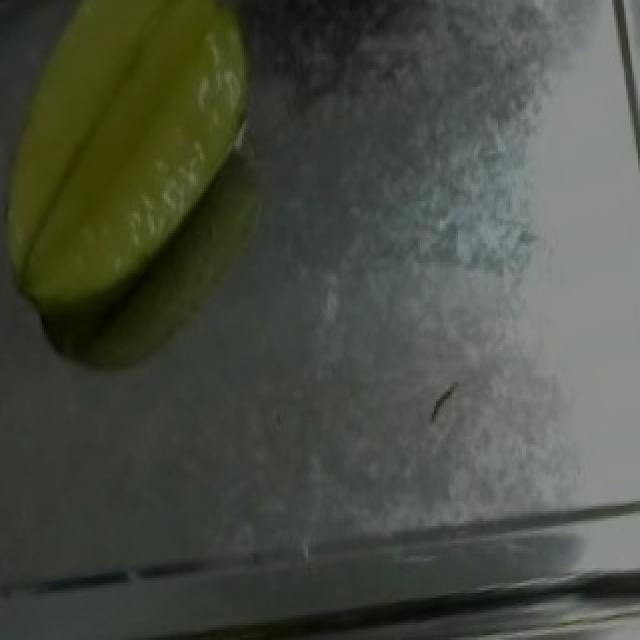fruit: (0, 0, 286, 332)
